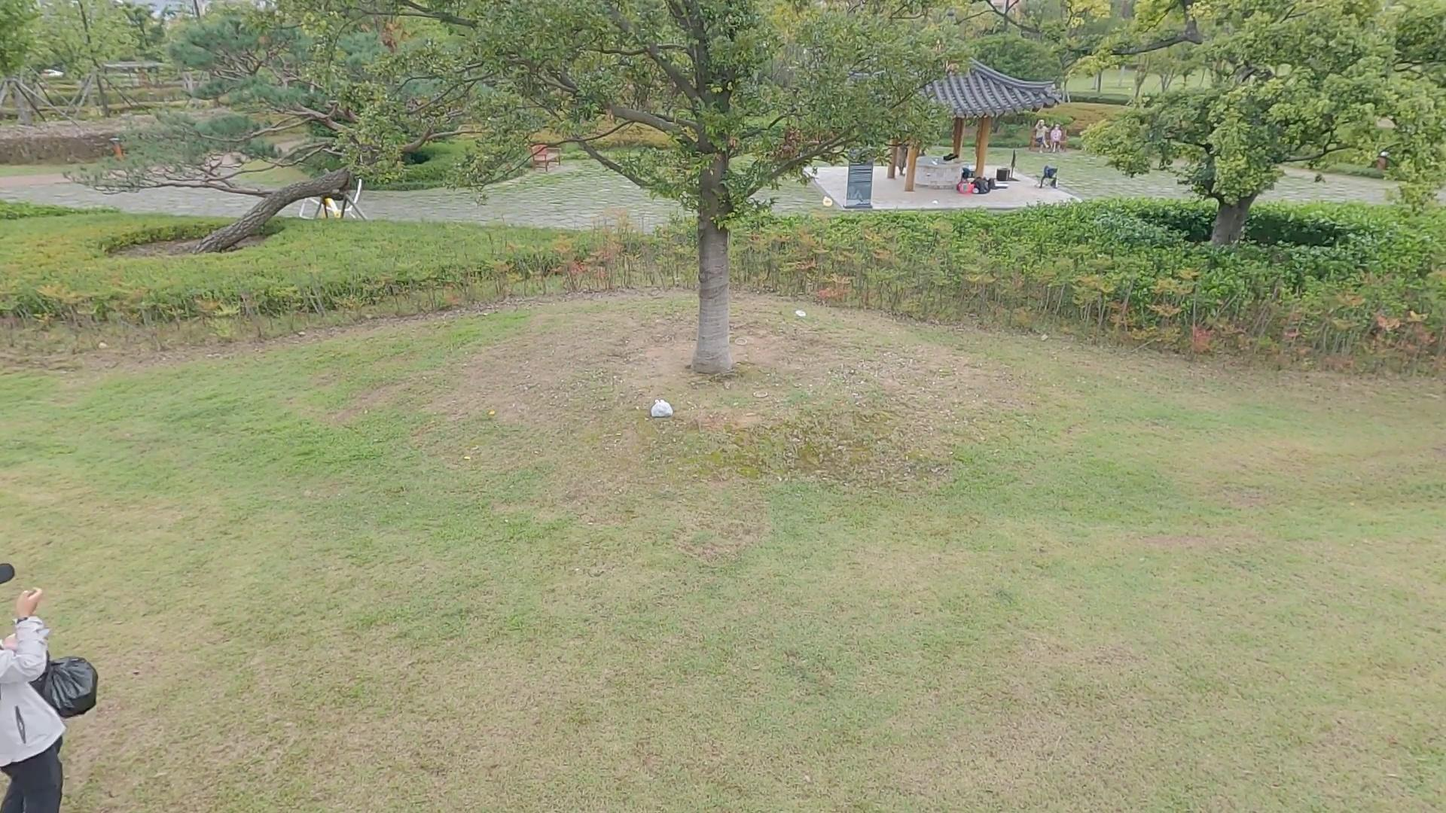person: (0, 548, 79, 813), (1035, 119, 1049, 153), (1051, 123, 1061, 152)
trash: (38, 653, 100, 719), (651, 398, 674, 420), (796, 308, 808, 319)
